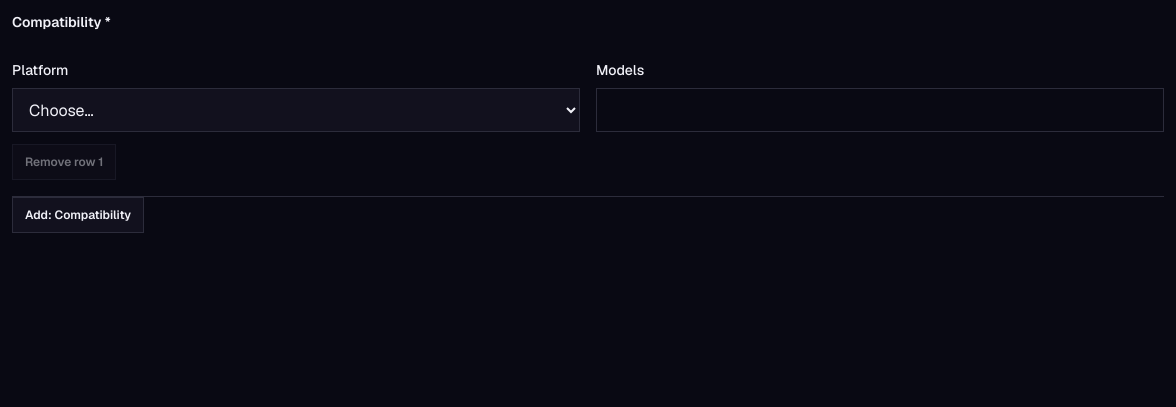
Test: structured declarations › requires fields in an added declaration and retains a required group's last row
Check: the button "Remove row 1" is disabled, box x1=12 y1=144 x2=116 y2=180
Click the button "Add: Compatibility".
click(78, 215)  # box x1=12 y1=197 x2=144 y2=233
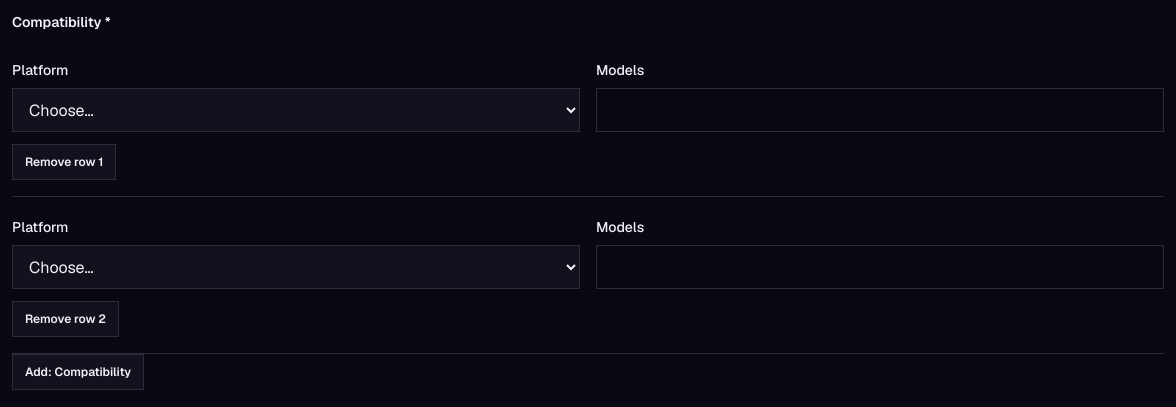
Check: the number of dropdowns is 2, box x1=12 y1=88 x2=580 y2=132; x1=12 y1=245 x2=580 y2=289
